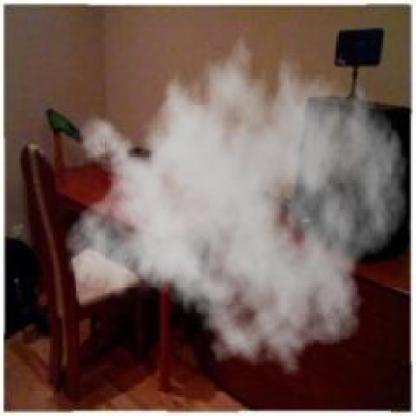Smoke: (62, 18, 409, 384)
